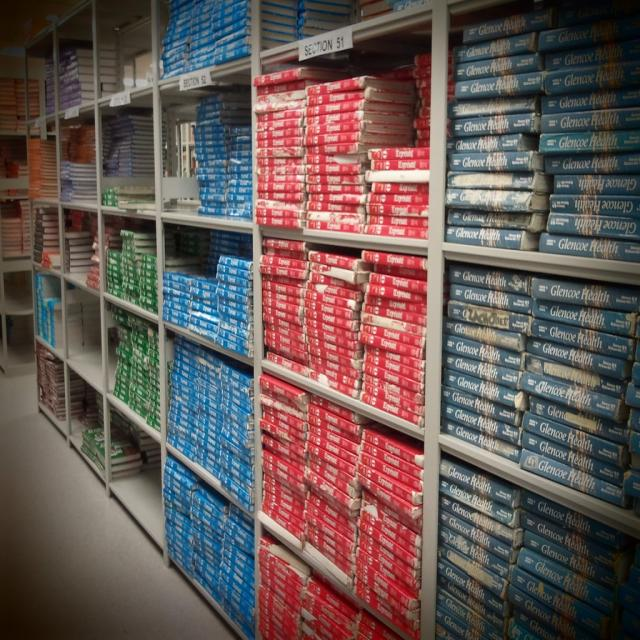Book: (248, 38, 454, 640), (424, 25, 640, 597), (156, 3, 344, 635), (22, 41, 114, 448), (105, 16, 167, 438), (433, 588, 640, 640), (0, 72, 36, 266), (76, 422, 147, 478)
